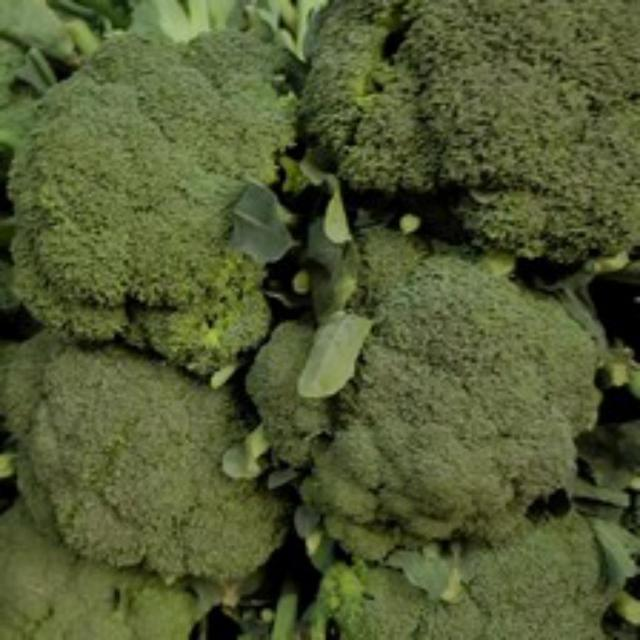broccoli: (3, 18, 314, 356)
